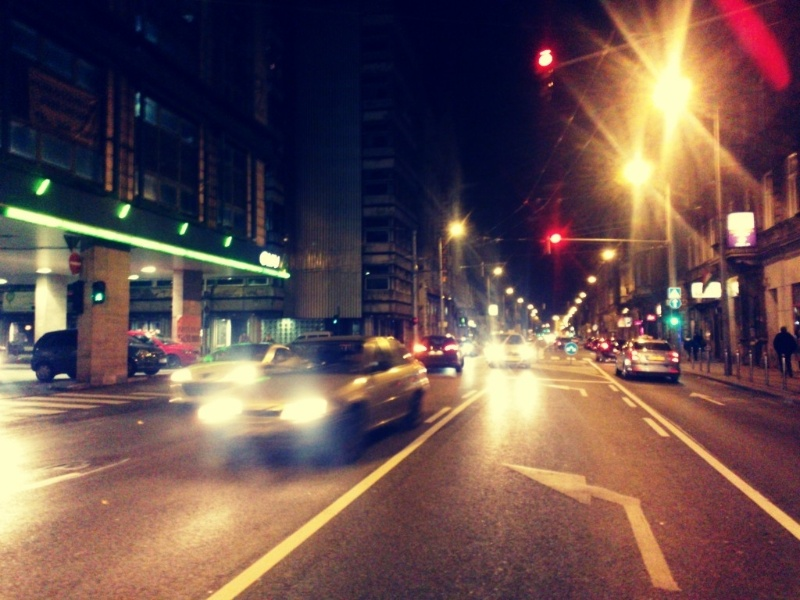green_light: (28, 172, 56, 200), (217, 229, 240, 254), (111, 197, 135, 220), (174, 215, 194, 238)
red_light: (533, 46, 562, 78), (542, 227, 568, 248)
